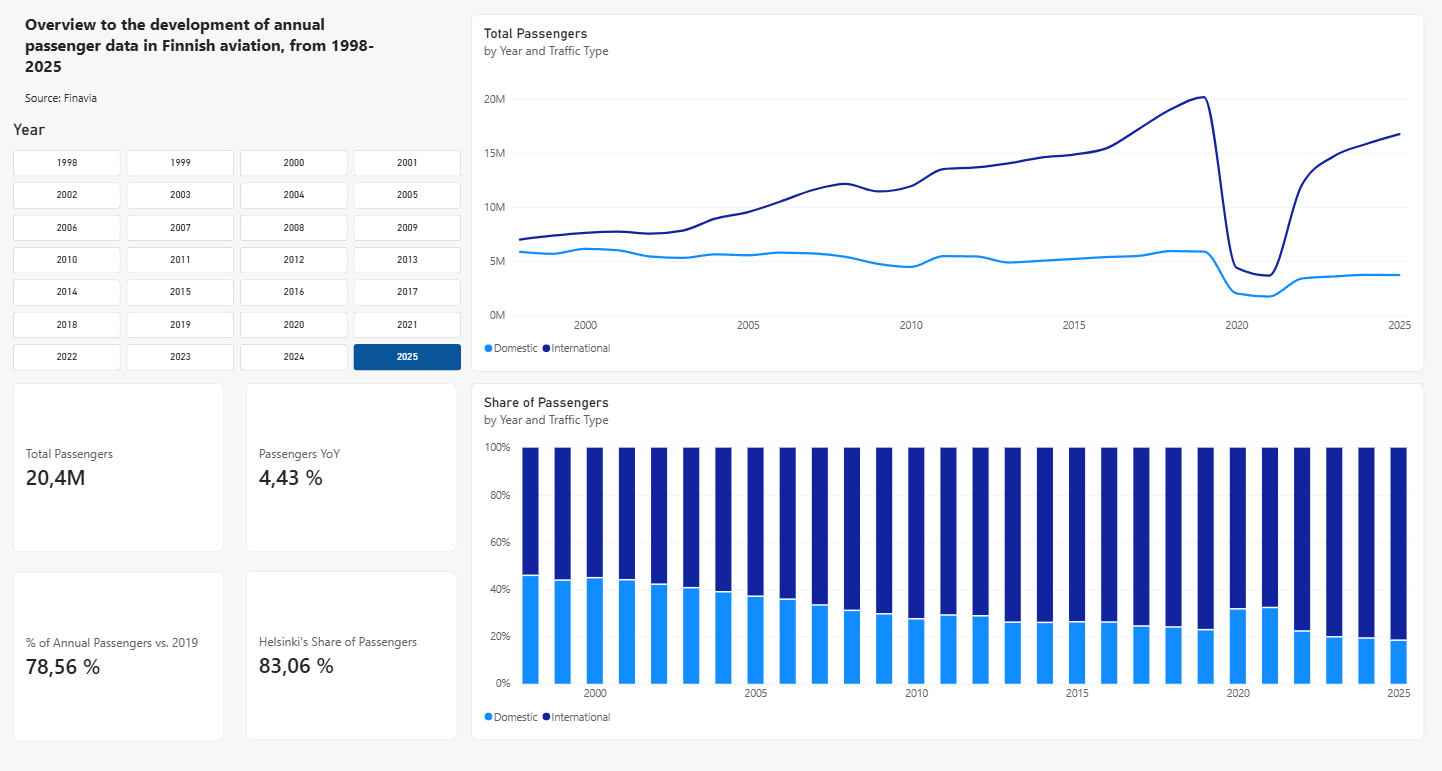

The page's visual inventory and layout, read from the dashboard file:
{"tool":"powerbi","page":{"name":"Overview","canvas":[1920,1080],"ordinal":0},"visuals":[{"type":"cardVisual","fields":{"Data":["_Measures1.Total Passengers"]},"box":[18.6,526.7,280.1,225],"z":0},{"type":"cardVisual","fields":{"Data":["_Measures1.Passengers YoY"]},"box":[328.5,526.7,280.1,225],"z":1000},{"type":"cardVisual","fields":{"Data":["_Measures1.Recovery vs. 2019"]},"box":[19,777.6,280.1,225],"z":2000},{"type":"lineChart","fields":{"Category":["dim_Date.Year"],"Series":["dim_TrafficType.TrafficType"],"Y":["_Measures1.Total Passengers"]},"box":[627.4,36.5,1267.8,475.6],"z":3000},{"type":"hundredPercentStackedColumnChart","fields":{"Category":["dim_Date.Year"],"Series":["dim_TrafficType.TrafficType"],"Y":["_Measures1.Total Passengers"]},"box":[627.4,526.7,1267.8,475],"z":4000},{"type":"advancedSlicerVisual","fields":{"Values":["dim_Date.Year"]},"box":[19,176.5,599.6,335.6],"z":5000},{"type":"cardVisual","fields":{"Data":["_Measures1.HV share"]},"box":[328.5,776.7,280.1,225],"z":6000},{"type":"textbox","box":[35,35,493.1,124],"z":6001}]}

Visuals, with their boxes on the page's 1920x1080 design canvas (x1, y1, x2, y2). These are canvas units, not pixel positions in the 1442x771 screenshot, which may show the page scaled, cropped or inside an application window:
cardVisual - _Measures1.Total Passengers: (19,527,299,752)
cardVisual - _Measures1.Passengers YoY: (328,527,609,752)
cardVisual - _Measures1.Recovery vs. 2019: (19,778,299,1003)
lineChart - dim_Date.Year x dim_TrafficType.TrafficType: (627,36,1895,512)
hundredPercentStackedColumnChart - dim_Date.Year x dim_TrafficType.TrafficType: (627,527,1895,1002)
advancedSlicerVisual - dim_Date.Year: (19,176,619,512)
cardVisual - _Measures1.HV share: (328,777,609,1002)
textbox: (35,35,528,159)
